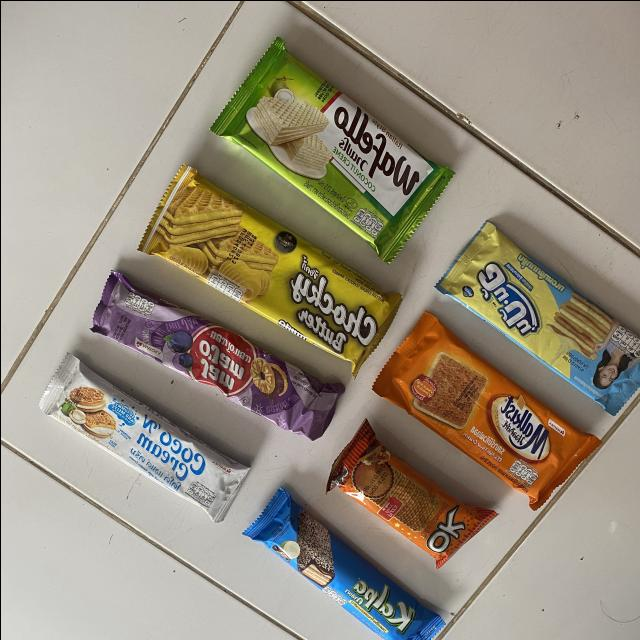plastik: (138, 165, 400, 373), (210, 37, 453, 261), (371, 311, 599, 509), (91, 270, 342, 439), (435, 221, 640, 414), (39, 353, 247, 521), (243, 488, 442, 640), (325, 419, 495, 567)
